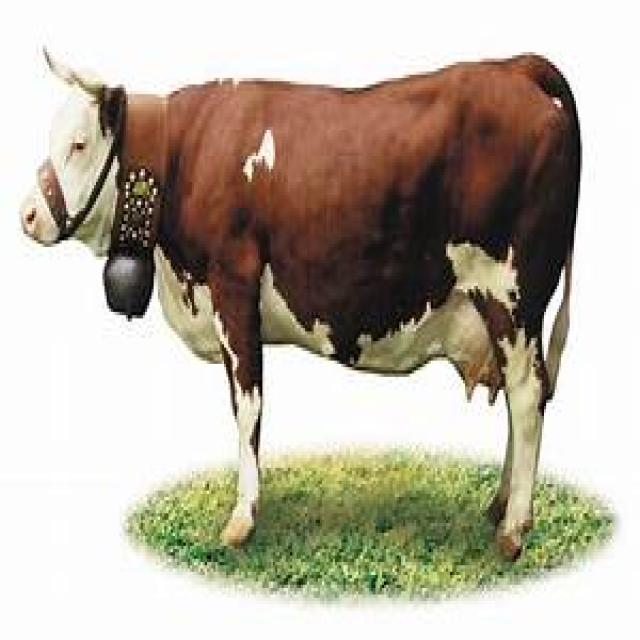cow: (21, 54, 580, 557)
